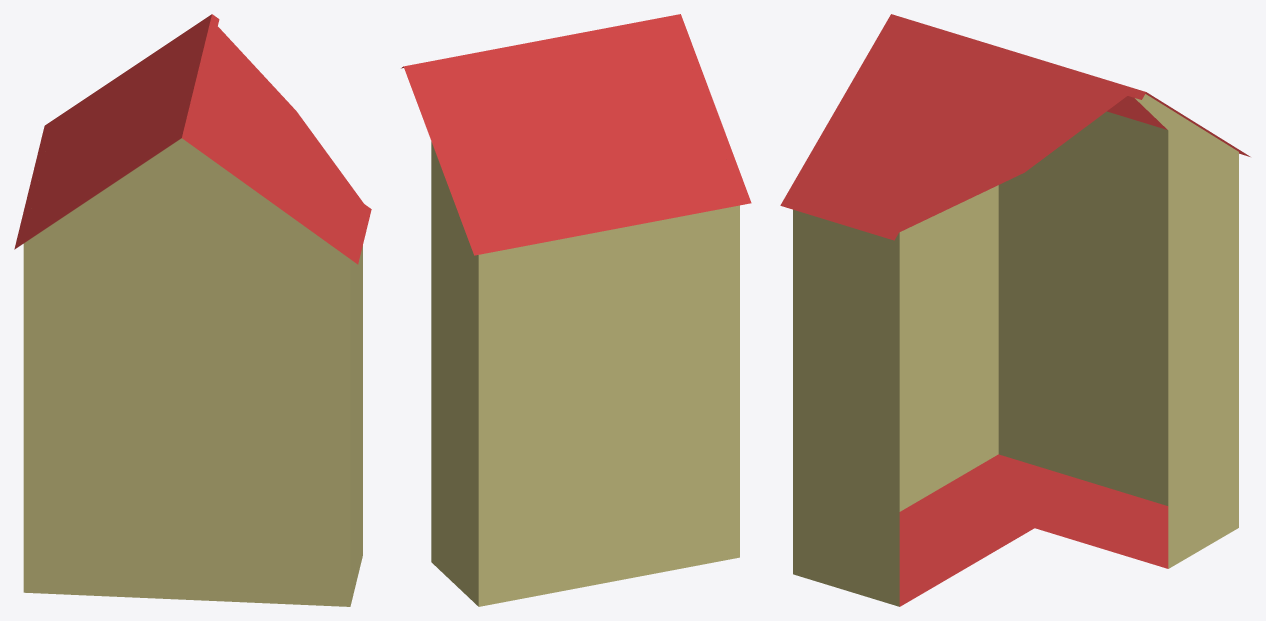
The picture shows the model from 3 angles, left to right: view 1: azimuth 30°, elevation 25°; view 2: azimuth 150°, elevation 25°; view 3: azimuth 270°, elevation 25°; orthographic projection. The views are drawn at different scales.
Size of the model in its own units: 10.39 by 12.85 by 14.92.
